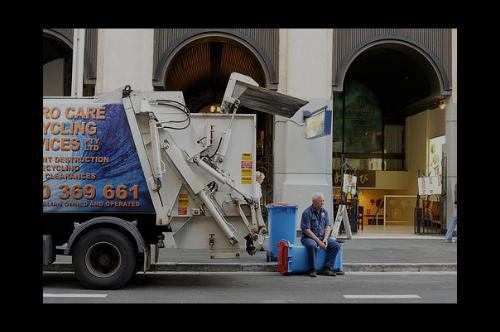Bote de Basura: (280, 243, 347, 275), (267, 202, 296, 261)
